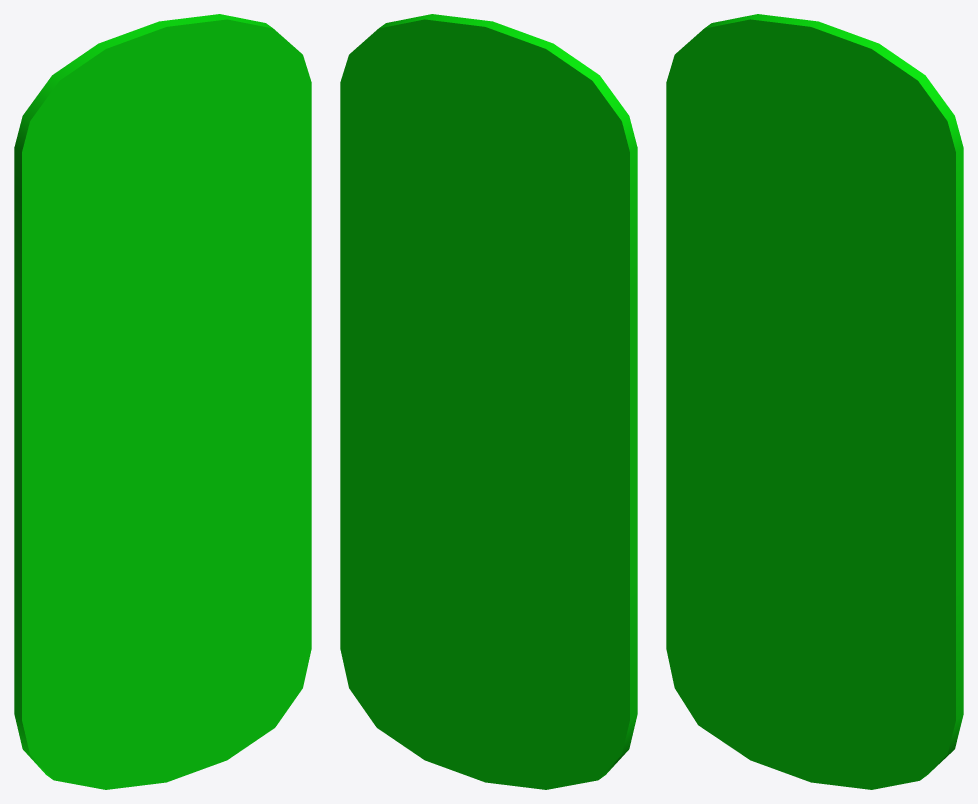
3 renders of one model, left to right at view 1: azimuth 30°, elevation 25°; view 2: azimuth 150°, elevation 25°; view 3: azimuth 330°, elevation 25°, orthographic.
Parts seen in each view (by area): view 1: Shield_Sq_04_B; view 2: Shield_Sq_04_B; view 3: Shield_Sq_04_B.
Part boxes in pixels (left/top/right/bottom): Shield_Sq_04_B: left=14, top=14, right=311, bottom=789; Shield_Sq_04_B: left=340, top=14, right=637, bottom=789; Shield_Sq_04_B: left=666, top=14, right=963, bottom=789.
Bounding box in the file's own units: 1.04 × 0.0461 × 2.59.
